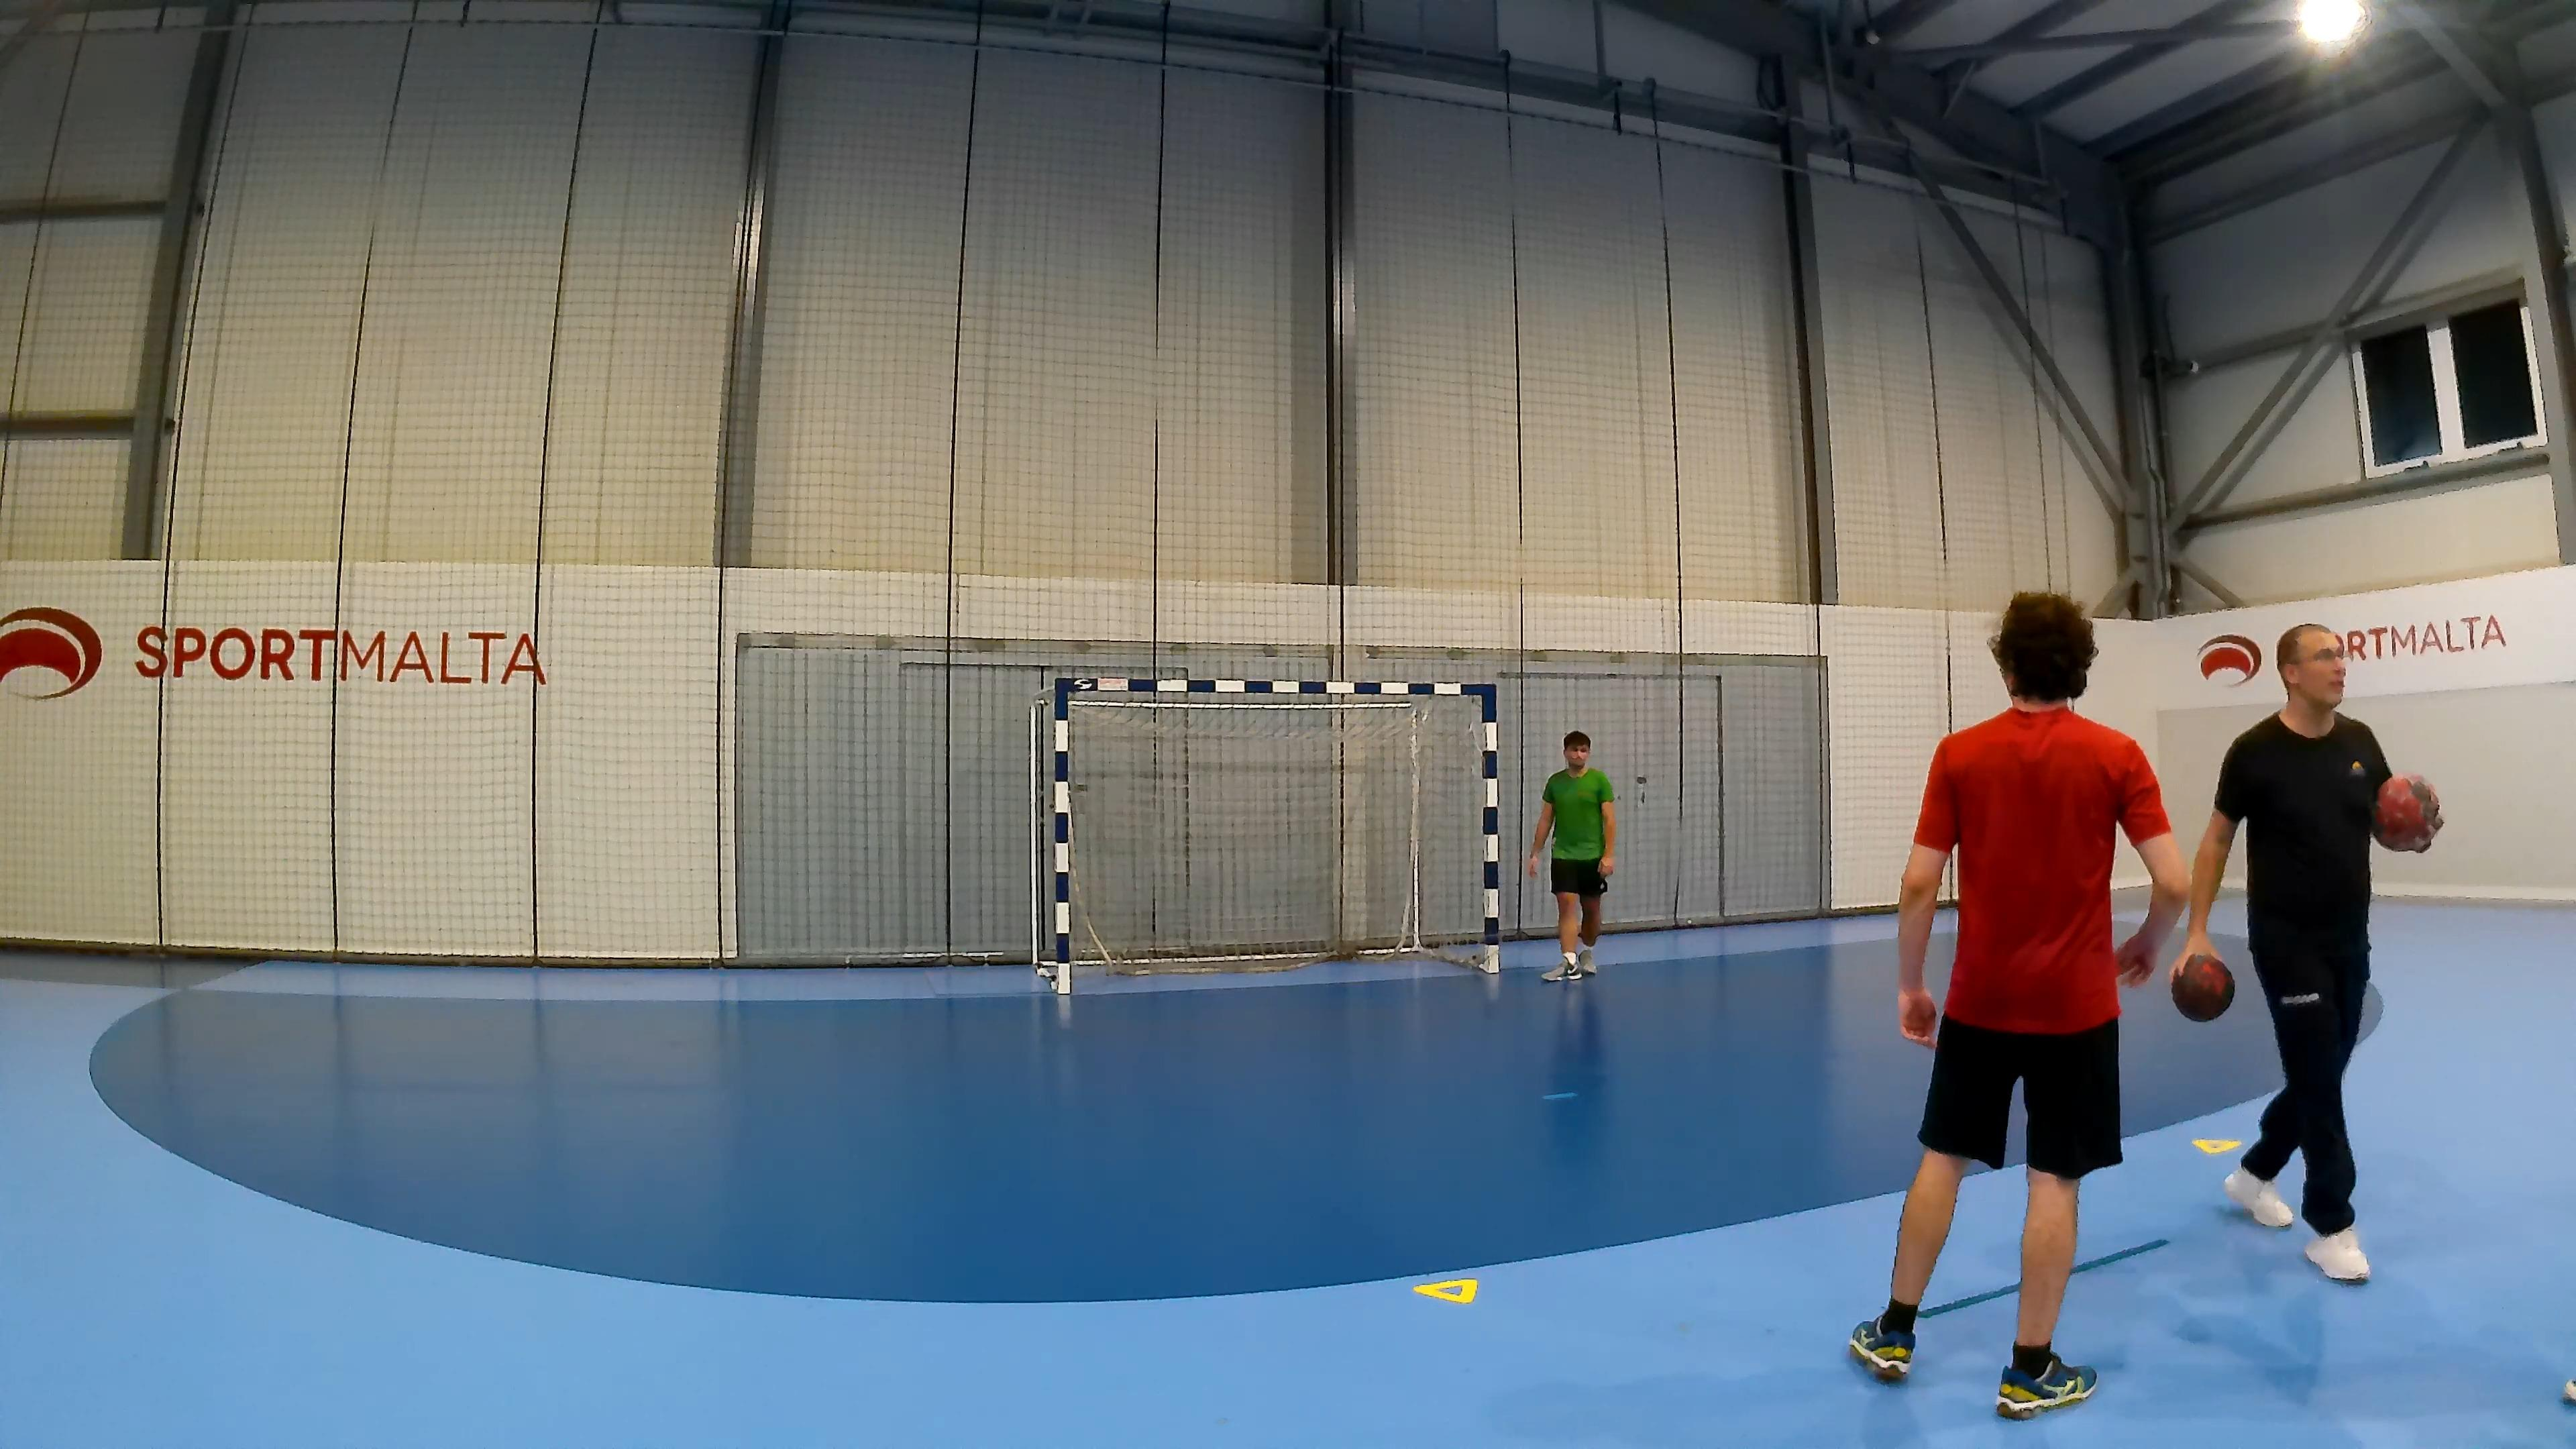handball: (2371, 771, 2443, 853), (2169, 952, 2235, 1021)
